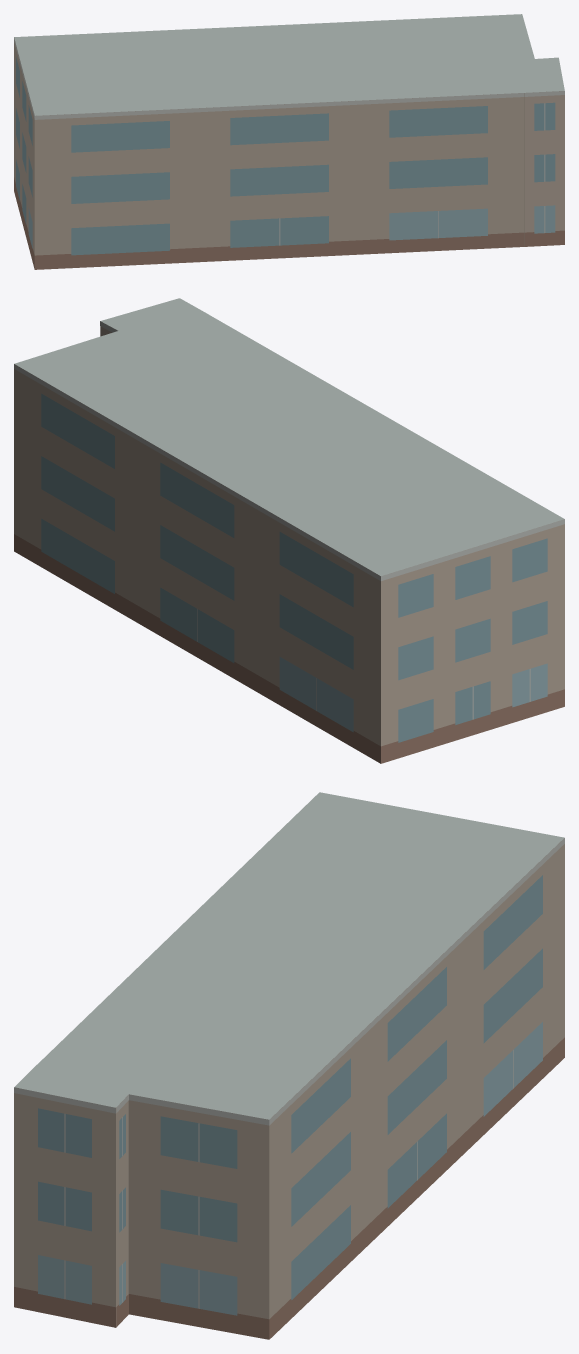
File: survey-upis-32527533.glb
3 views of the same model, one above another, from view 1: azimuth 30°, elevation 25°; view 2: azimuth 150°, elevation 25°; view 3: azimuth 270°, elevation 25° (orthographic). The views are drawn at different scales.
Parts seen in each view (by area): view 1: survey-upis-32527533.tmp; view 2: survey-upis-32527533.tmp; view 3: survey-upis-32527533.tmp.
Boxes of the visible parts, x1,y1,x2,y2 form: survey-upis-32527533.tmp: (14,14,564,269); survey-upis-32527533.tmp: (14,298,564,763); survey-upis-32527533.tmp: (14,792,564,1339).
Size of the model in its own units: 29.22 by 9.15 by 20.77.
